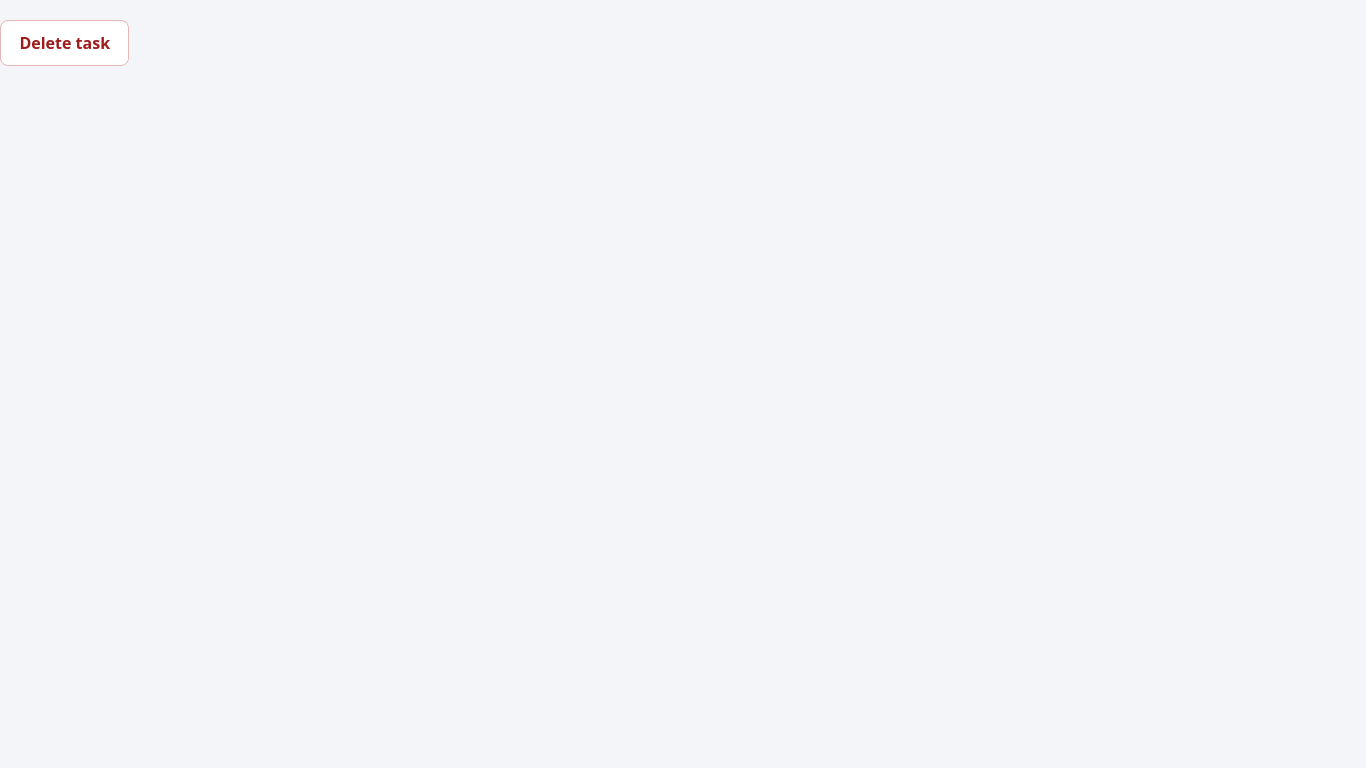
Test case: TaskDelete › sends no request when the confirmation is cancelled
Click the button "Delete task". click: (65, 43)
box: [0,20,130,66]
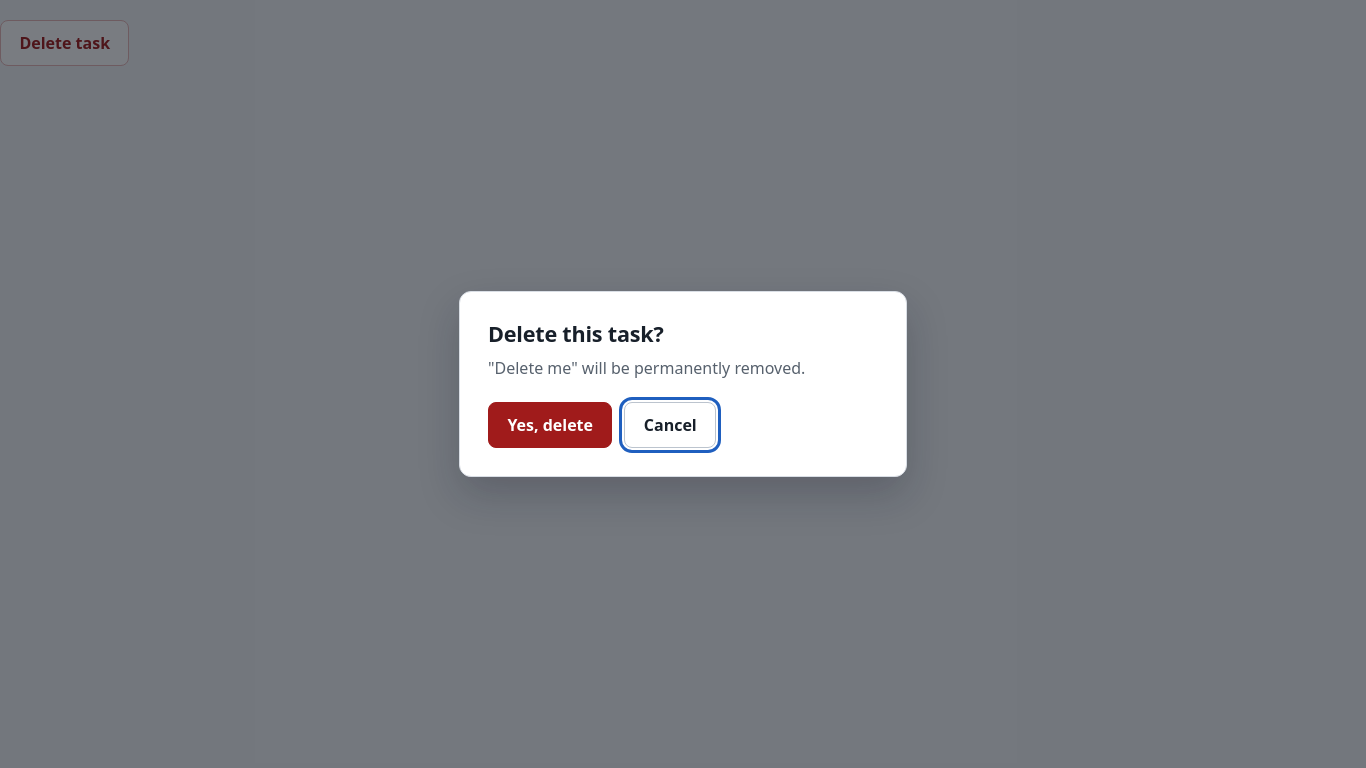
Click the button "Cancel". click: (670, 426)
box: [624,402,716,448]
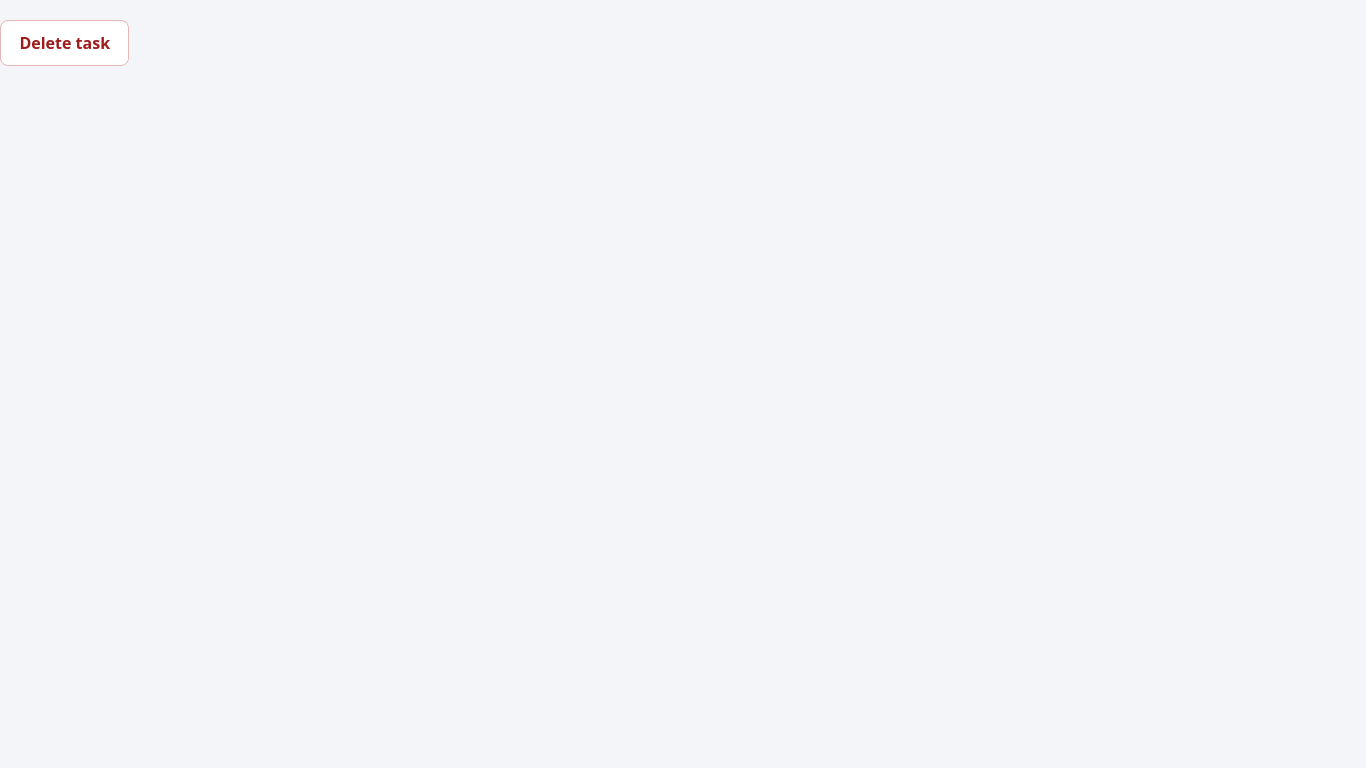
Now the dialog is gone
